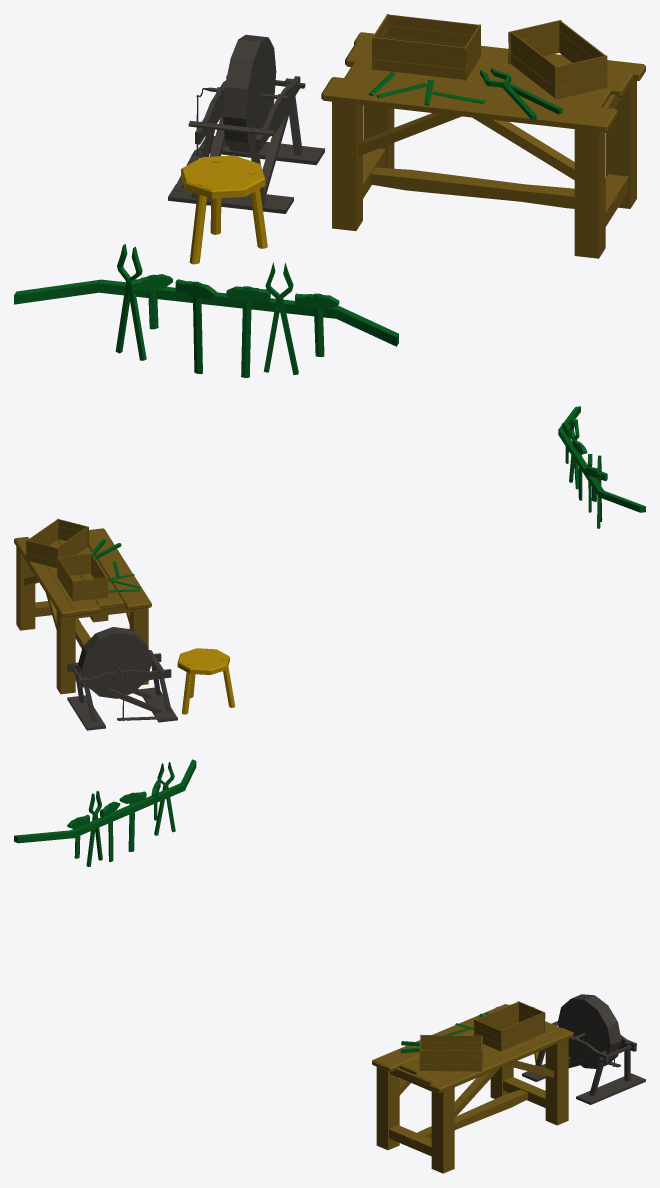
The model's file is NewSet.fbx.
The picture shows the model from 3 angles, top to bottom: view 1: azimuth 30°, elevation 25°; view 2: azimuth 150°, elevation 25°; view 3: azimuth 270°, elevation 25°; orthographic projection. The views are drawn at different scales.
Visible parts, largest first — view 1: Mesa, Grindstone, WallItems, Caja, Caja1, Banquito, Pinzas; view 2: Mesa, Grindstone, WallItems, Caja1, Caja, Banquito; view 3: Mesa, Grindstone, WallItems, Caja, Caja1.
Part boxes in pixels (left/top/right/bottom): Mesa: left=321, top=32, right=645, bottom=258; Grindstone: left=168, top=34, right=324, bottom=213; WallItems: left=14, top=244, right=398, bottom=377; Caja: left=372, top=14, right=480, bottom=80; Caja1: left=508, top=20, right=607, bottom=99; Banquito: left=181, top=155, right=267, bottom=264; Pinzas: left=480, top=68, right=562, bottom=120; Mesa: left=14, top=528, right=151, bottom=694; Grindstone: left=67, top=627, right=177, bottom=730; WallItems: left=558, top=406, right=645, bottom=528; Caja1: left=26, top=518, right=88, bottom=567; Caja: left=57, top=553, right=108, bottom=601; Banquito: left=177, top=648, right=235, bottom=714; Mesa: left=372, top=1004, right=573, bottom=1173; Grindstone: left=522, top=994, right=645, bottom=1104; WallItems: left=14, top=759, right=196, bottom=866; Caja: left=474, top=1001, right=545, bottom=1051; Caja1: left=419, top=1034, right=482, bottom=1071.
Size of the model in its own units: 7.26 by 2.46 by 7.52.
